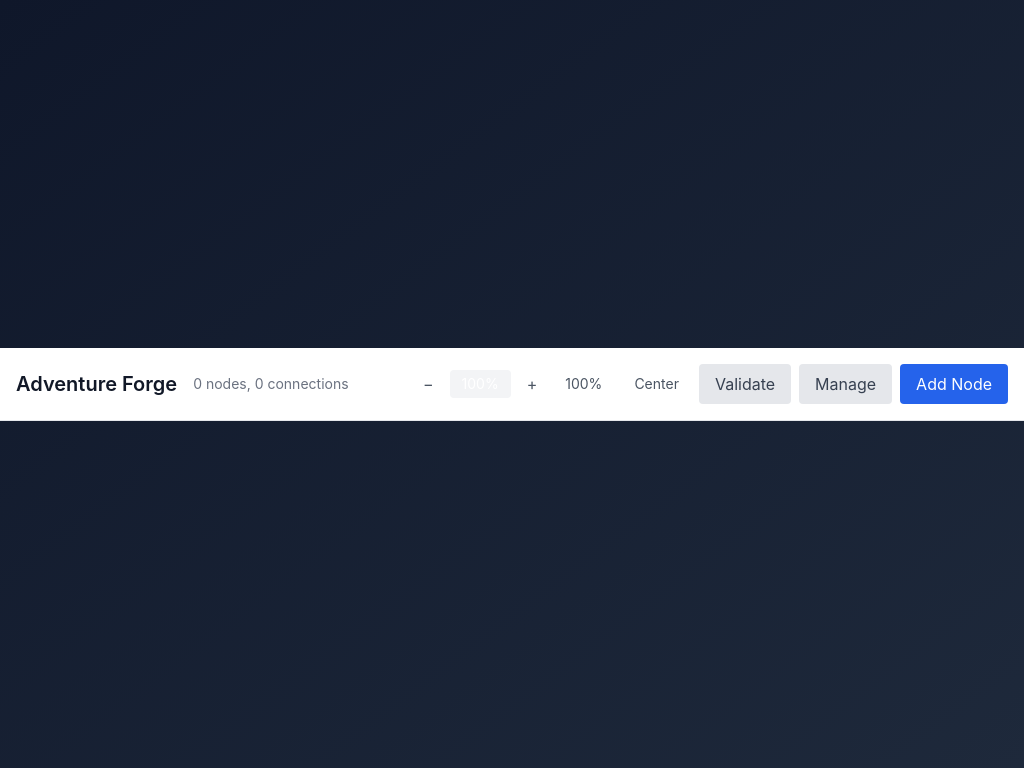
AdventureForge › creates nodes with correct properties
This screenshot has width=1024, height=768.
Note: Open node palette
What coordinates should you click on to do the following:
click the button "Add Node"
I would click on:
 (954, 384)
Its box is [900,364,1008,404].
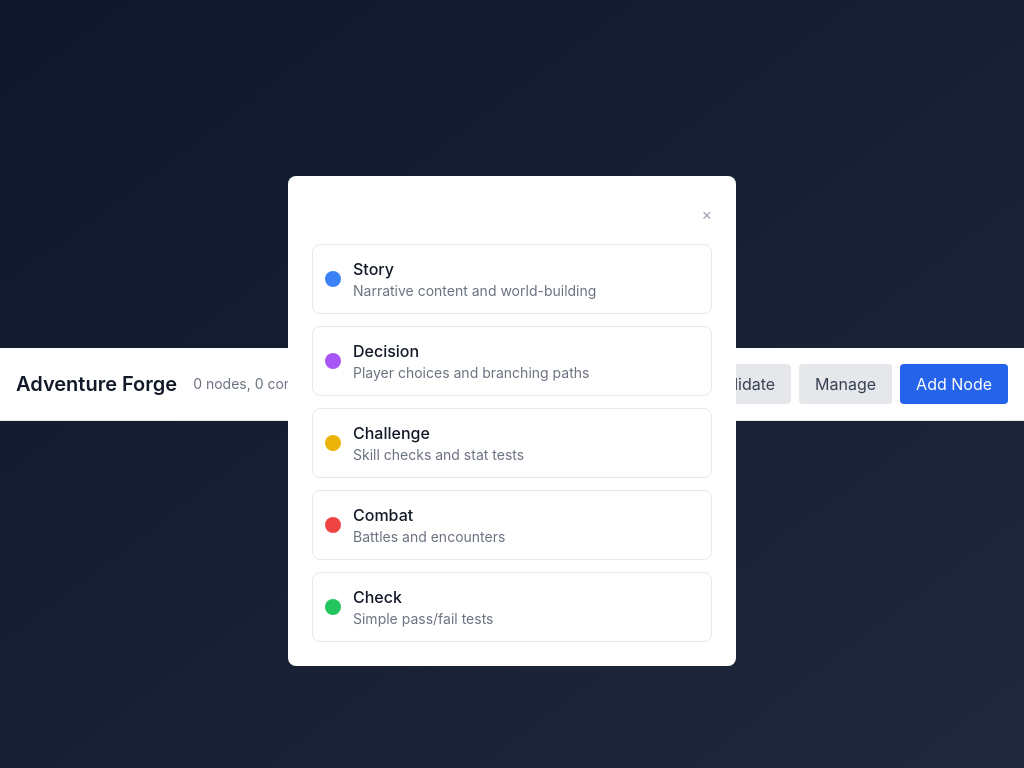
Note: Click on Story node
What coordinates should you click on to do the following:
click the text "Story"
I would click on:
 (373, 268)
Its box is [353,258,394,278].
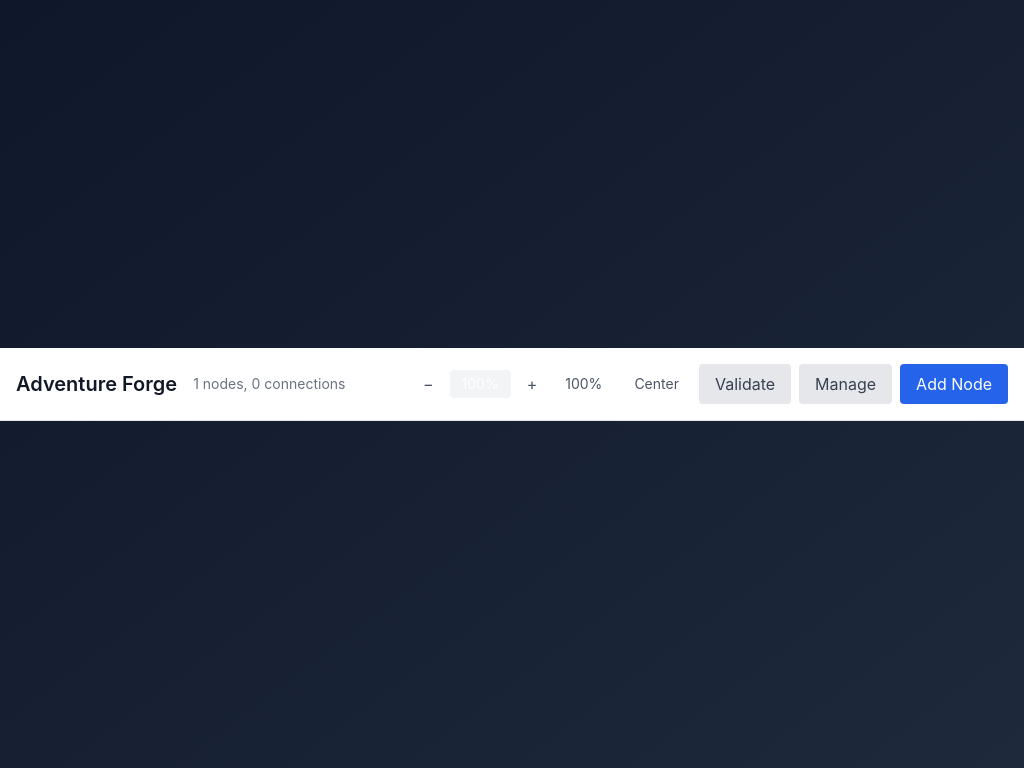
Now the text "1 nodes, 0 connections" is shown, box [193,374,345,394]
